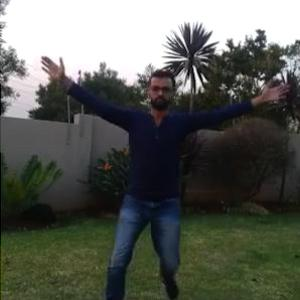takeoff: (41, 53, 293, 284)
